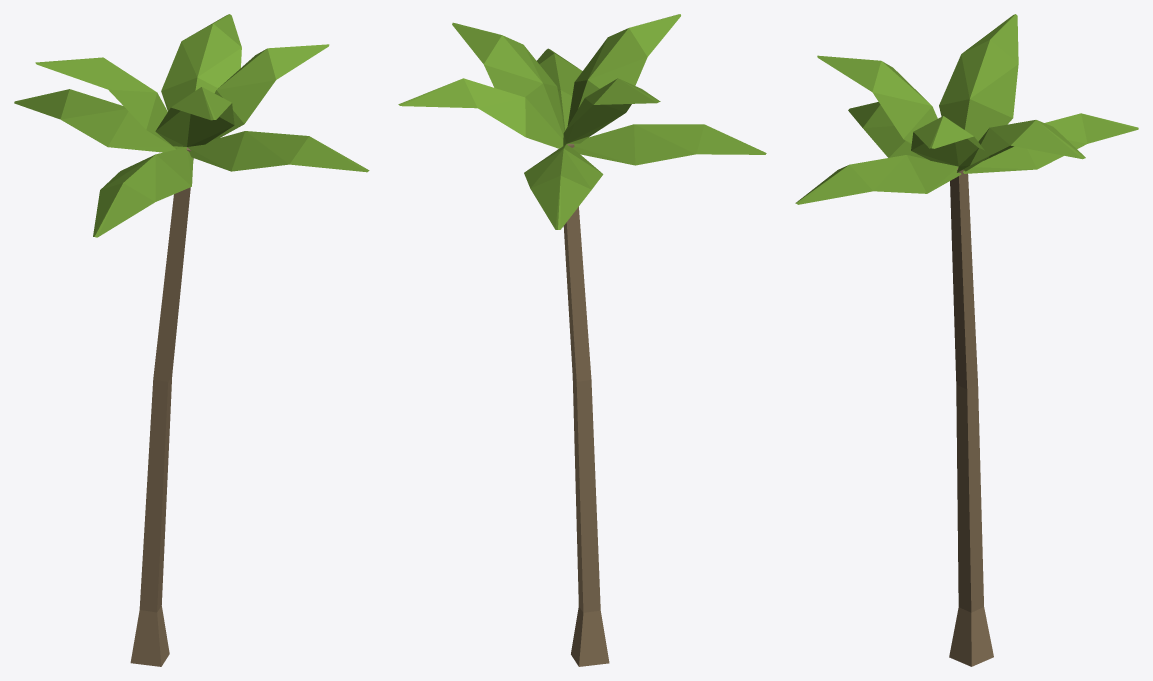
The model's file is palm_b_lod1.glb.
The picture shows the model from 3 angles, left to right: view 1: azimuth 30°, elevation 25°; view 2: azimuth 150°, elevation 25°; view 3: azimuth 270°, elevation 25°; orthographic projection.
Visible parts, largest first — view 1: palm; view 2: palm; view 3: palm.
Boxes of the visible parts, x1,y1,x2,y2 form: palm: (14,14,369,666); palm: (398,14,766,666); palm: (795,14,1138,666).
Size of the model in its own units: 5.92 by 12.35 by 6.41.
